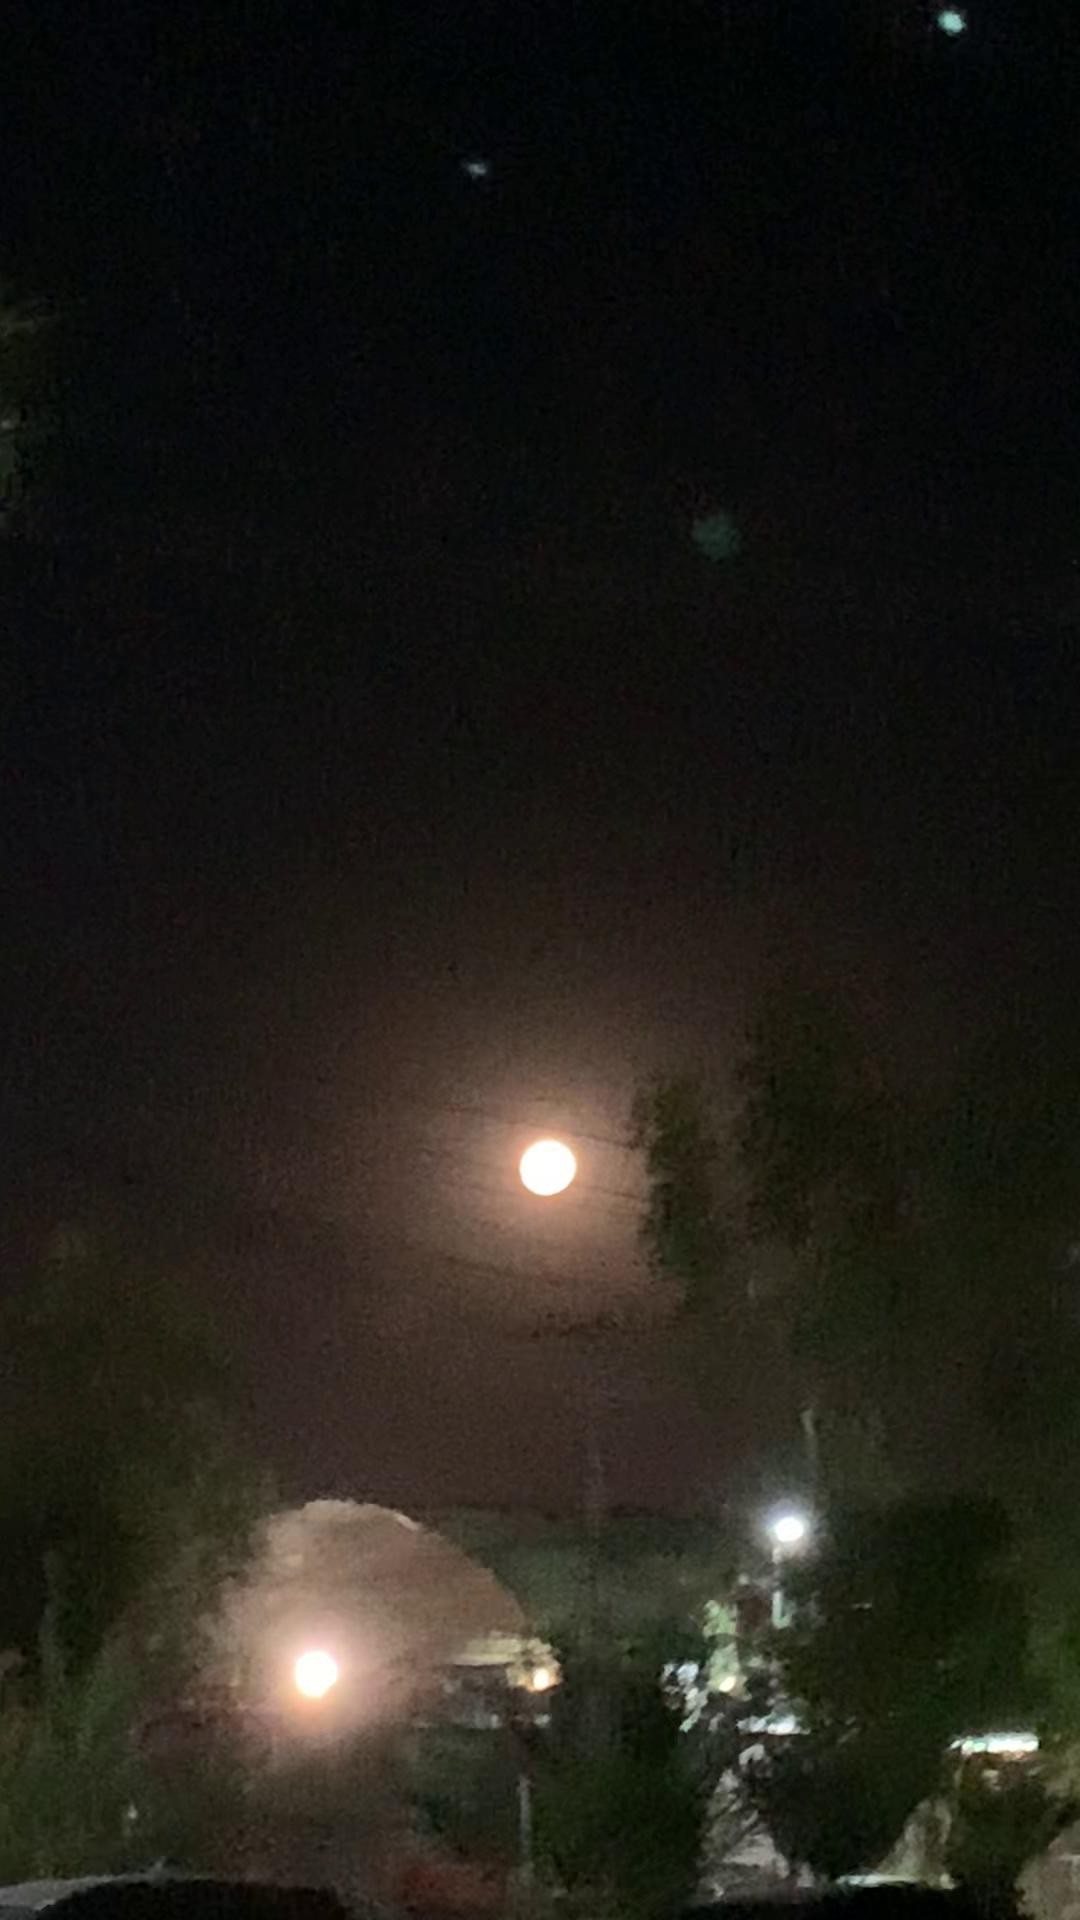moon: (504, 1145, 575, 1216)
